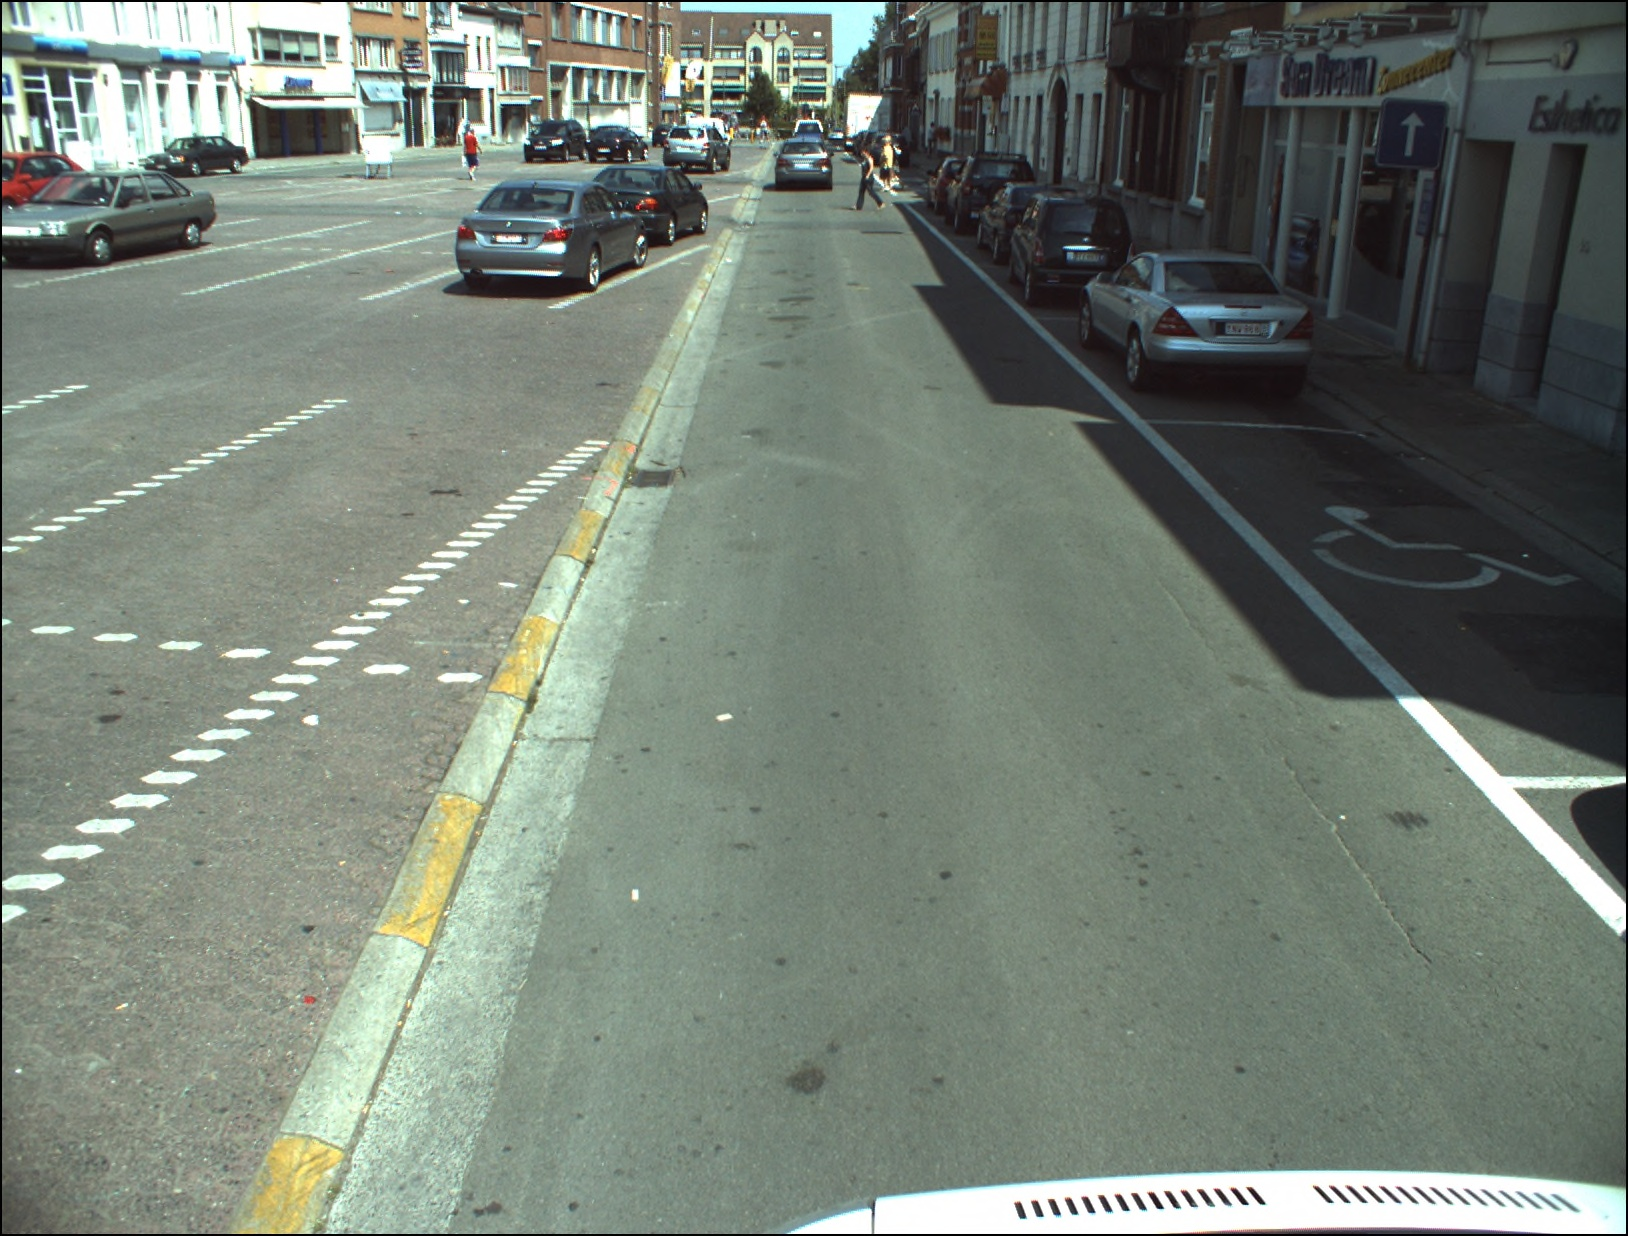oneway: (1376, 103, 1444, 167)
